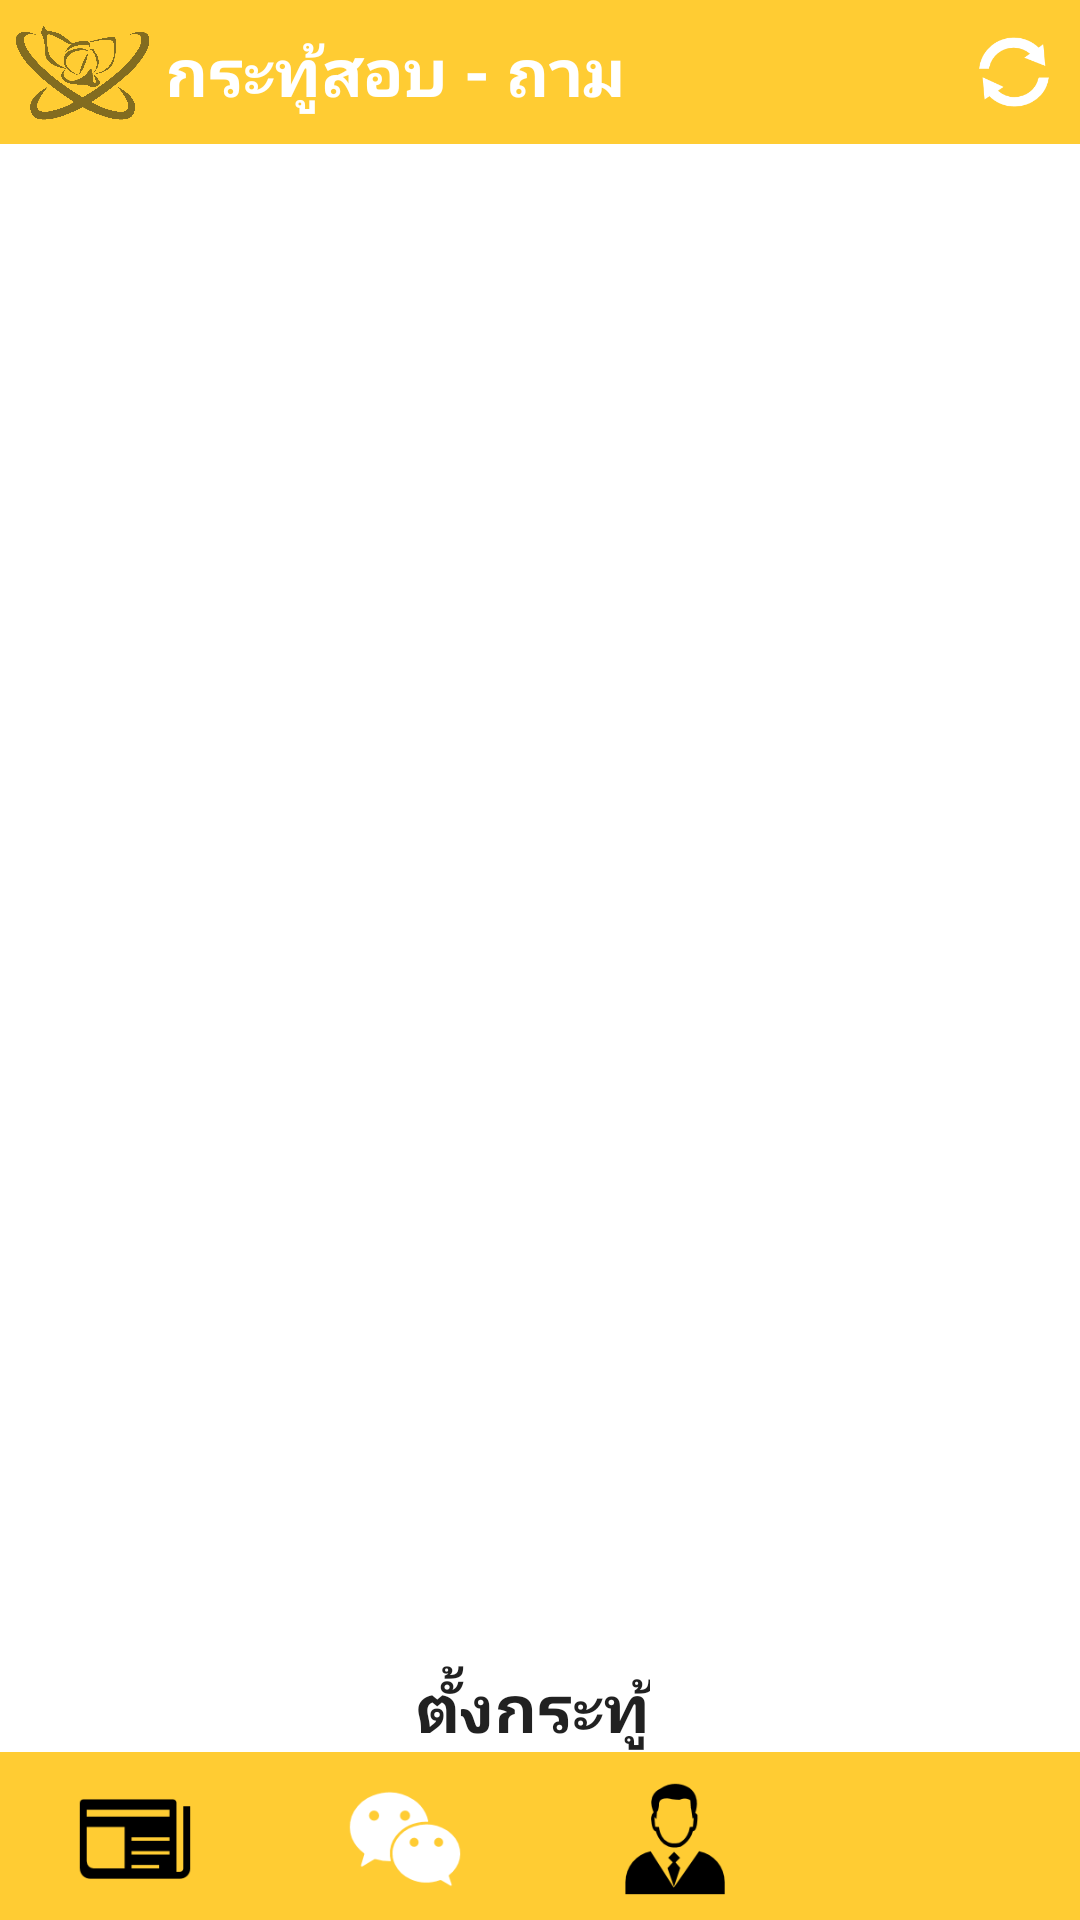

Locate icon controls on the screen. Image size 1080×1920, boxes as (x1, y1, x2, y2).
news: (79, 1799, 191, 1879)
profile: (625, 1783, 725, 1895)
refresh: (979, 37, 1049, 107)
